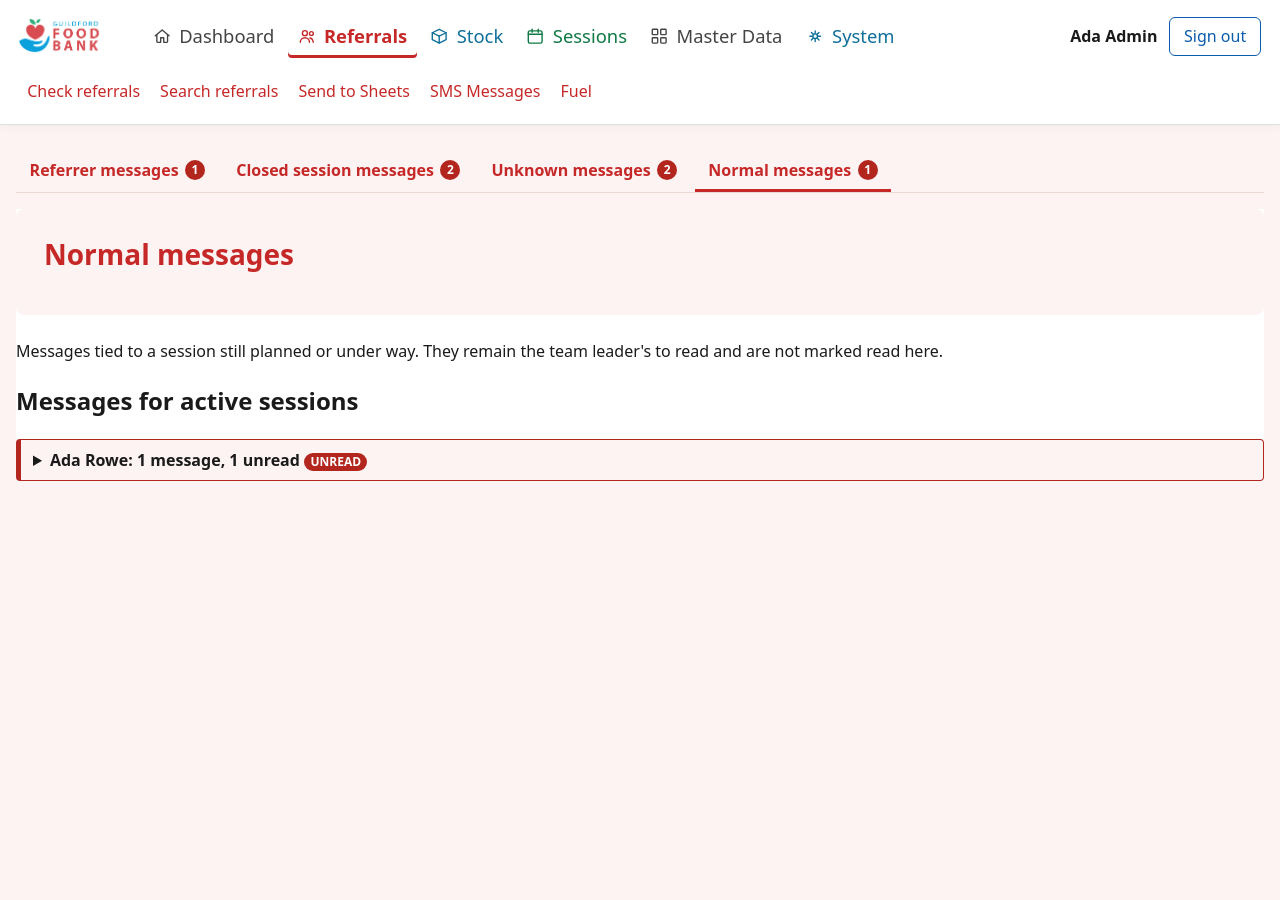
Test case: SmsInboxLayout — replying › replies to an active-session thread through its referral
Click the text "Ada Rowe". click: (89, 460)
box: [50,448,128,472]
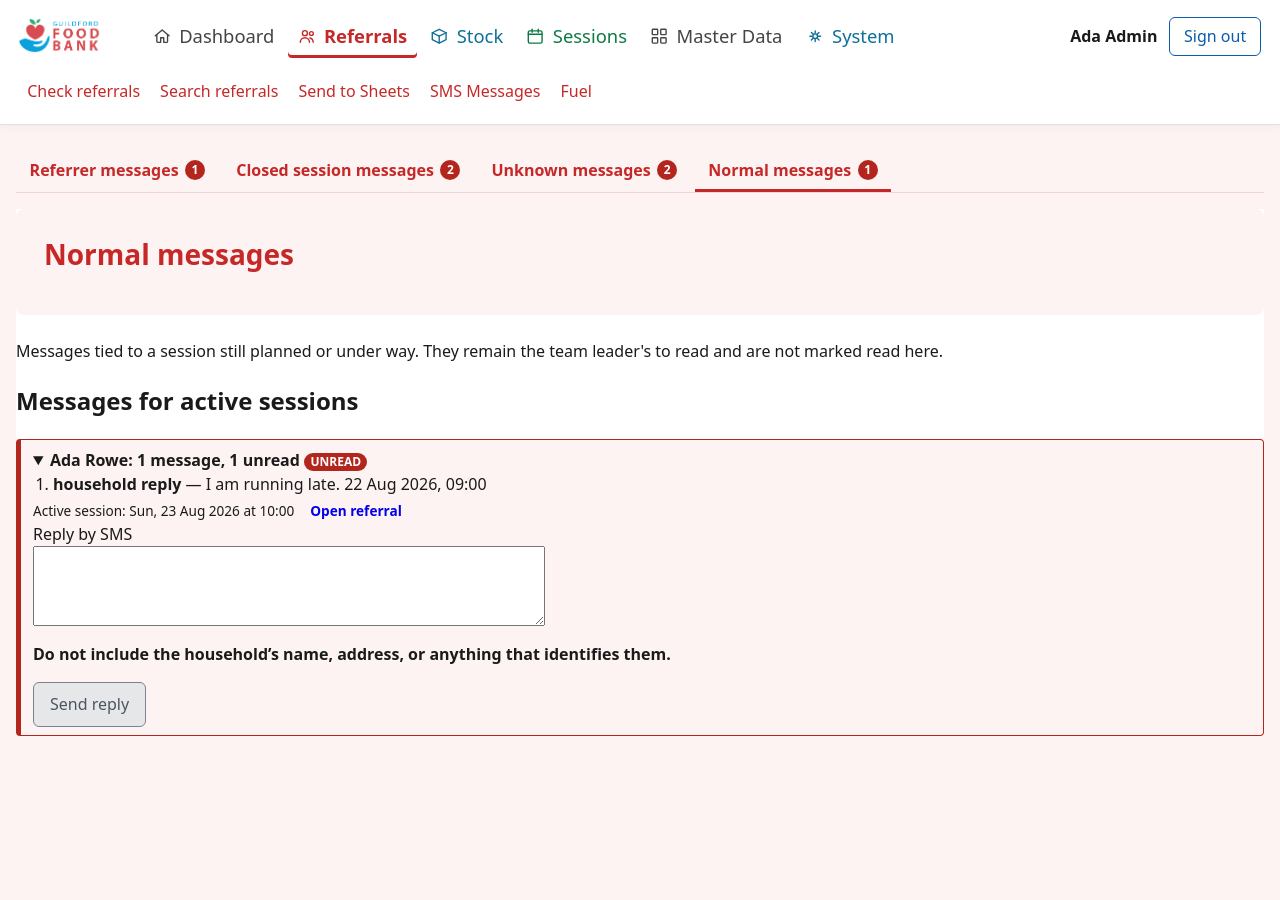
Type "See you then." into the text box labelled "Reply by SMS". click: (289, 586)
box: [33,546,545,626]
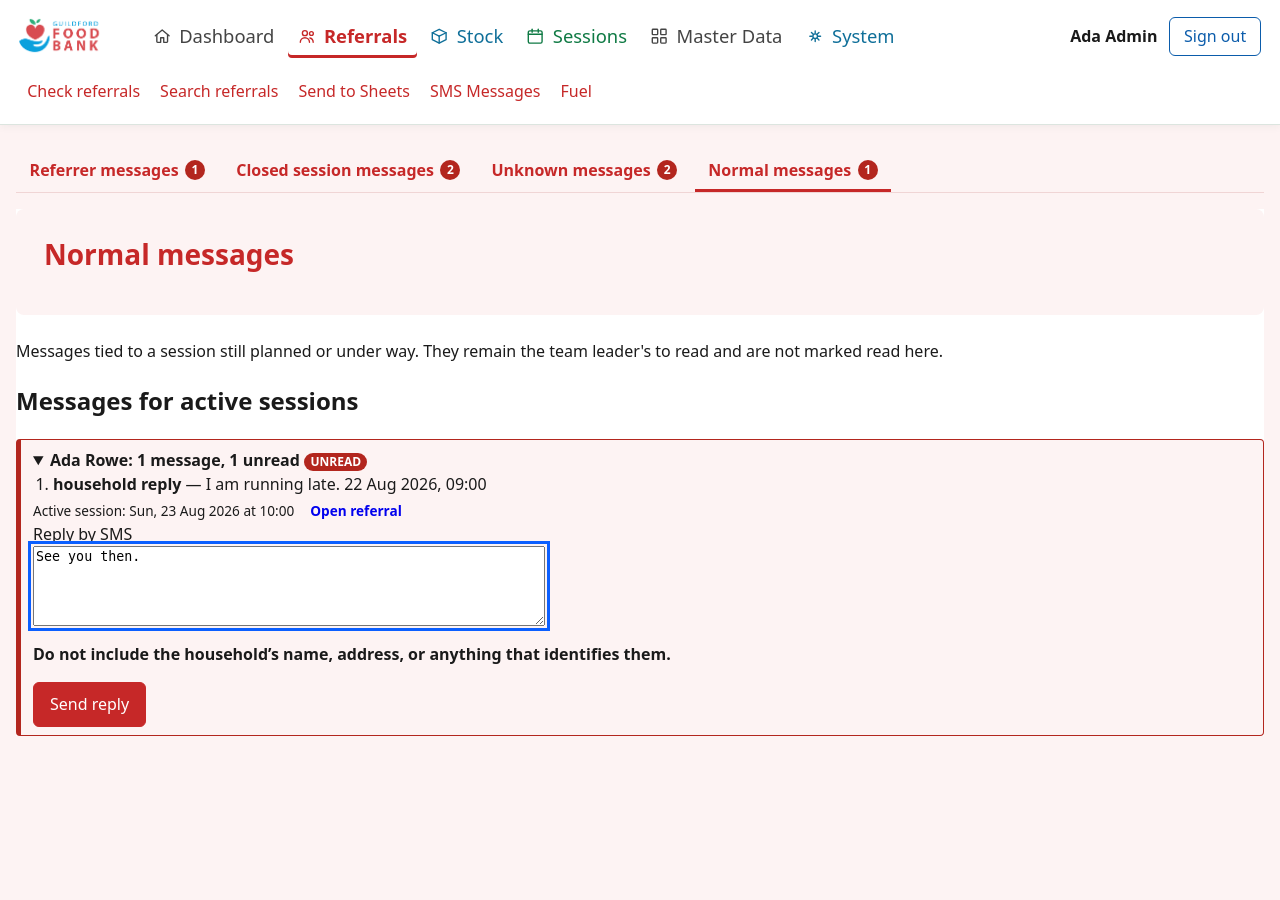
Click the button "Send reply". click: (90, 704)
box: [33,682,146,727]
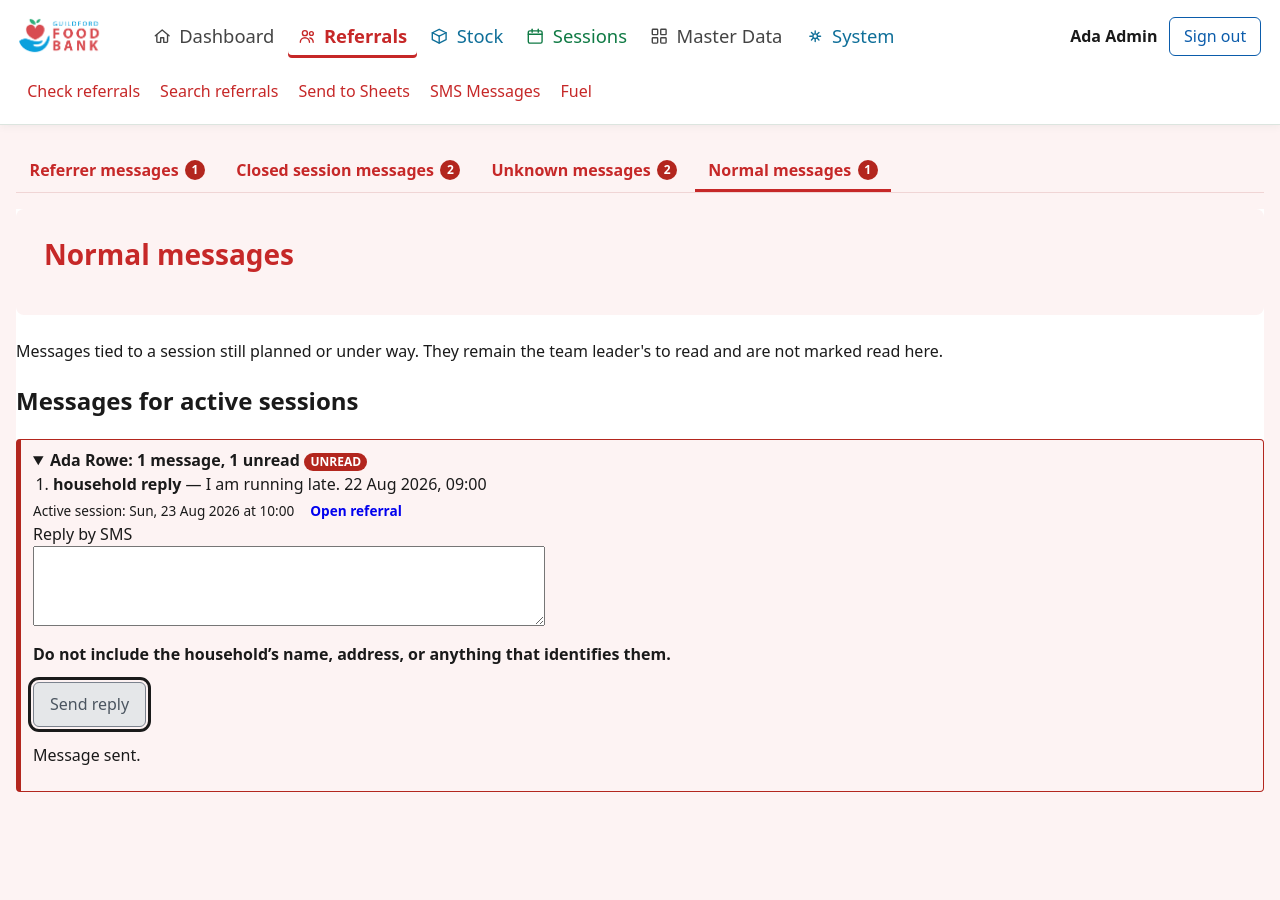
Expected: the message reads "Message sent.", [33,744,140,766]
